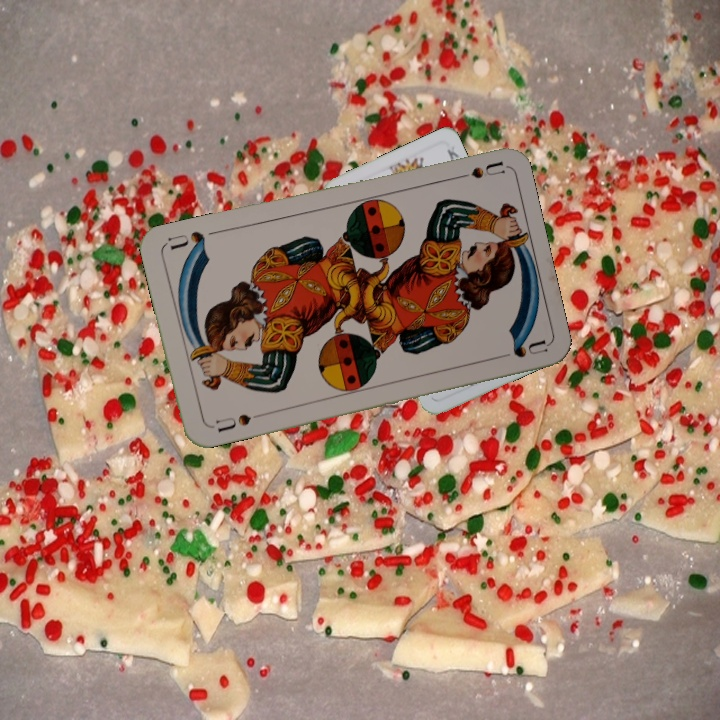SU: (446, 157, 506, 183), (206, 409, 264, 435)
